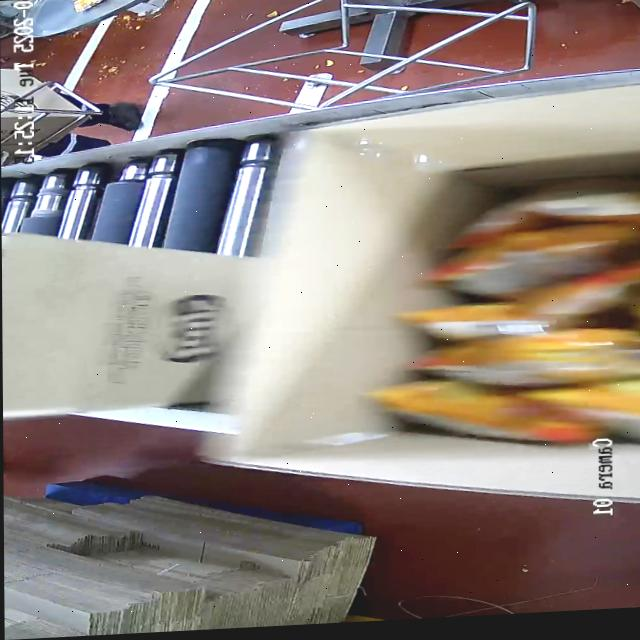FRENCH_CHEESE: (379, 147, 640, 454)
